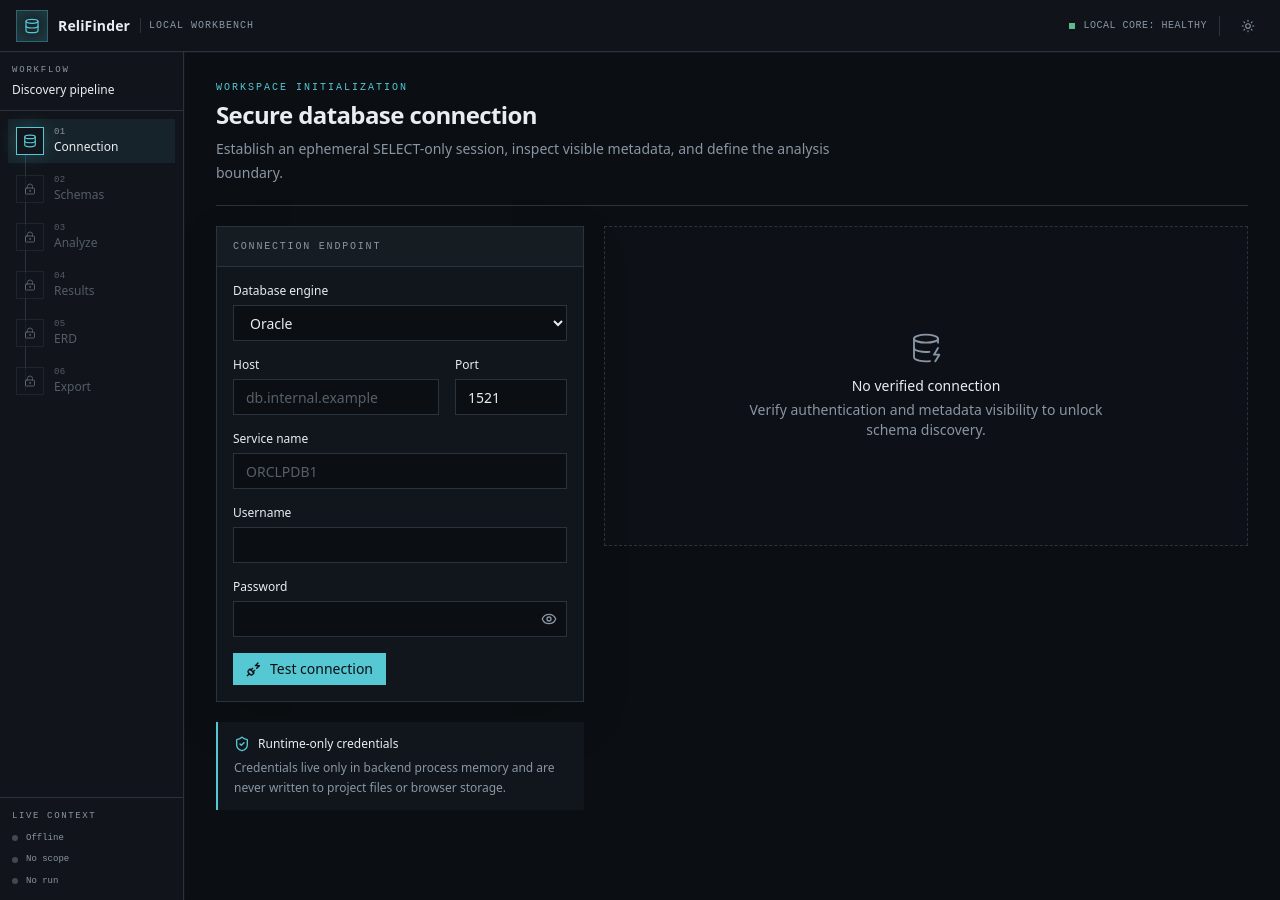
secure connection and schema workflow › validates required fields and the Oracle port
The width and height of the screenshot is (1280, 900).
Replace the text in the number field labelled "Port" with "70000" at (511, 397), box [455, 379, 567, 415]
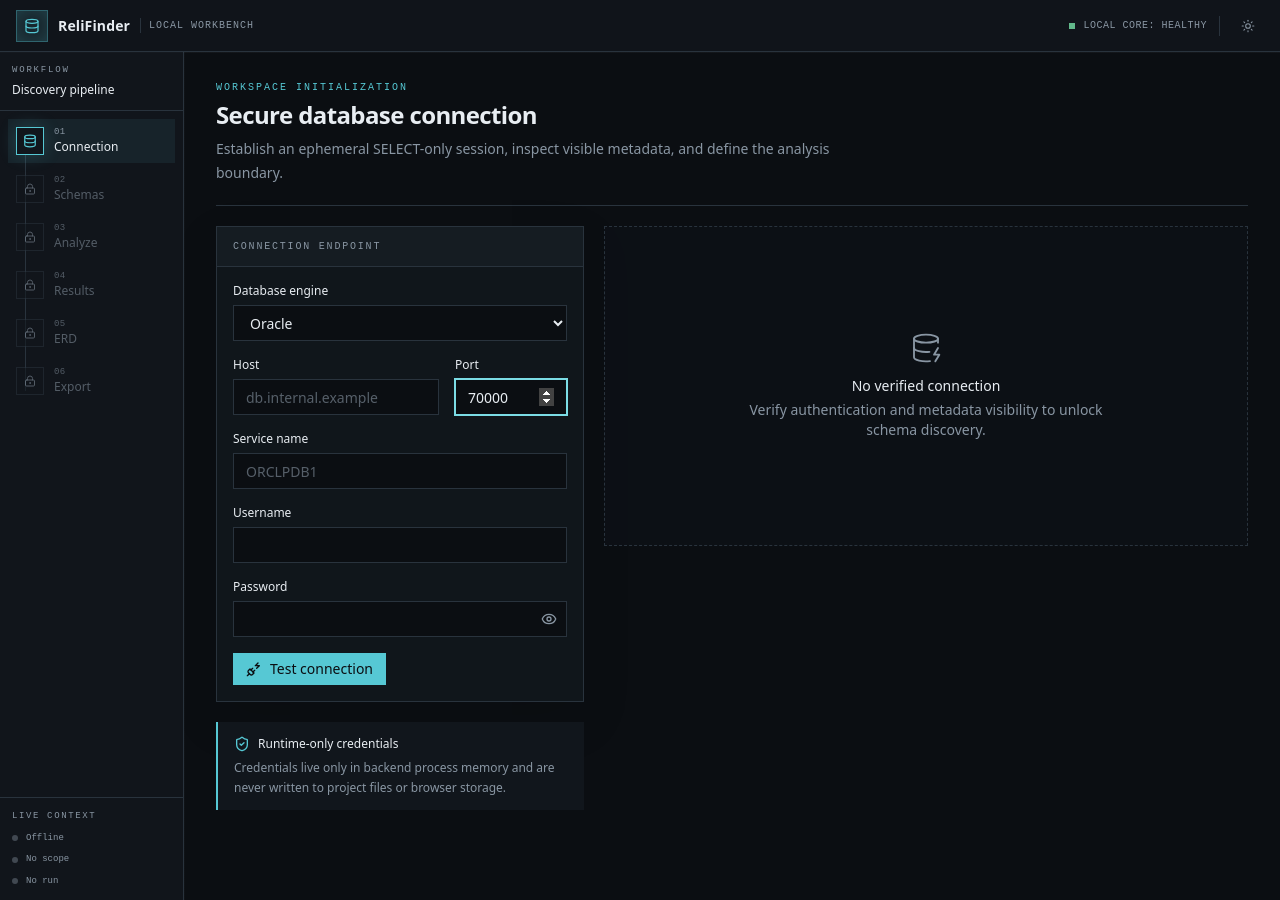
Click the button "Test connection" at (310, 669), box [233, 653, 386, 685]
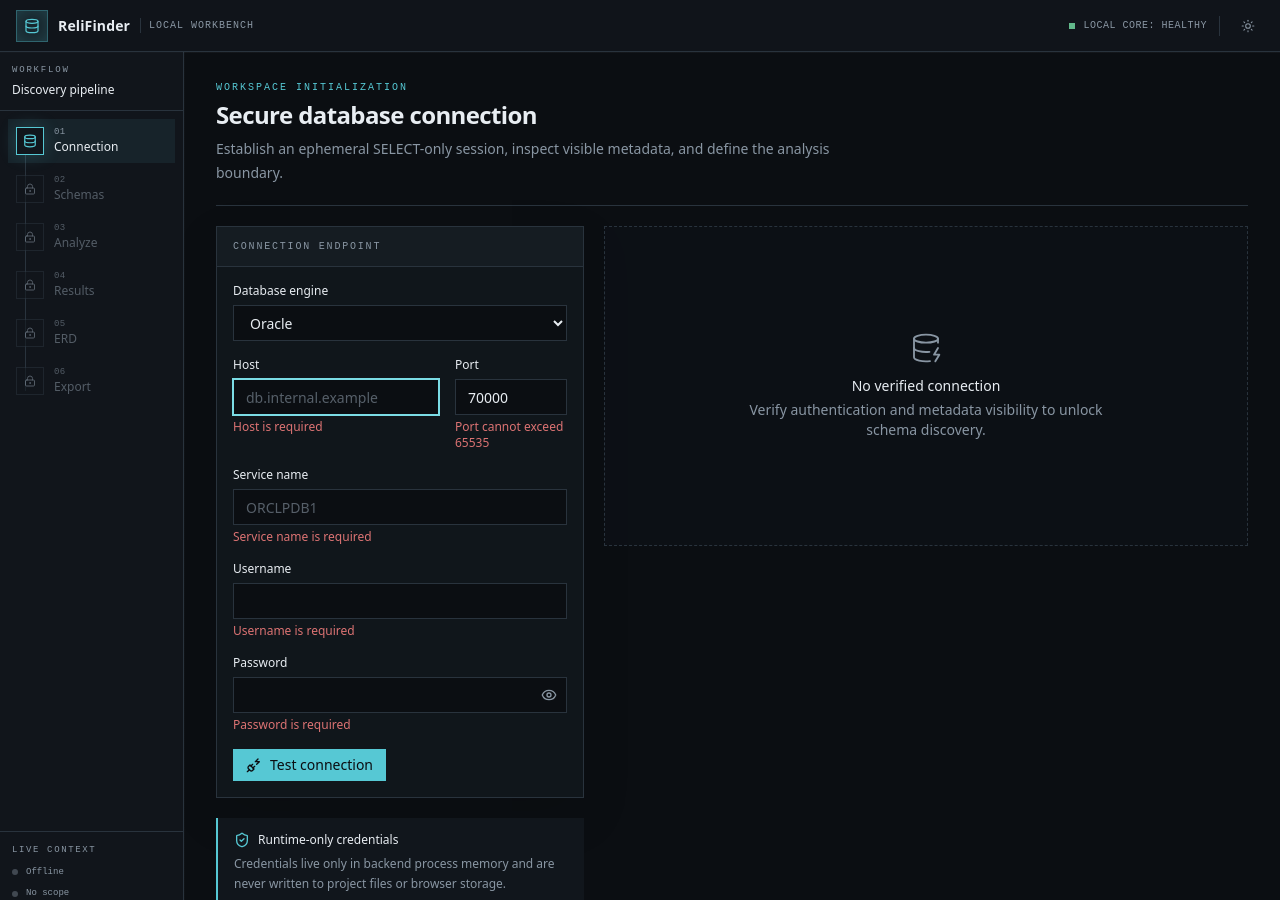
Expected: the text "Host is required" is shown, [233, 418, 323, 435]
Expected: the text "Service name is required" is shown, [233, 528, 372, 545]
Expected: the text "Username is required" is shown, [233, 622, 355, 639]
